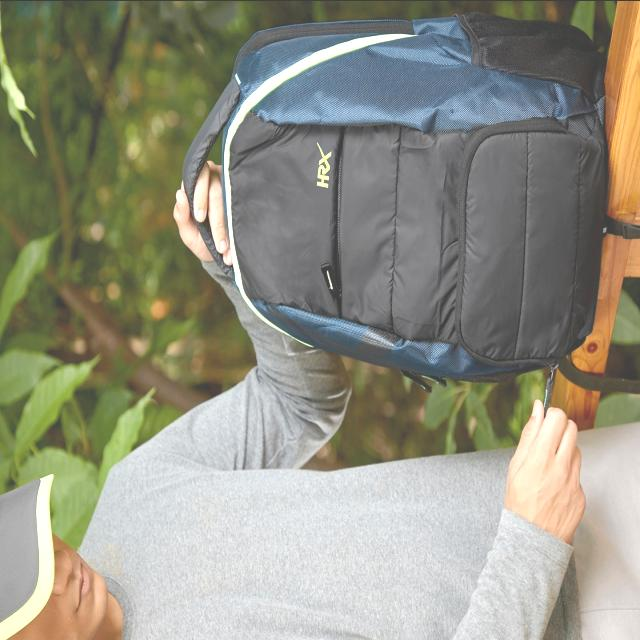backpack: (182, 12, 610, 392)
